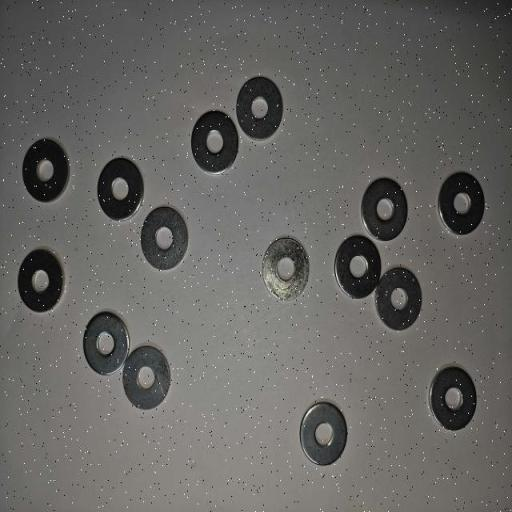washer: (21, 136, 70, 205), (428, 365, 478, 432), (234, 75, 284, 142), (190, 109, 240, 176), (122, 344, 171, 412), (332, 234, 382, 300), (96, 156, 145, 223), (140, 205, 189, 272), (261, 236, 310, 303), (360, 176, 409, 243), (82, 310, 130, 378), (374, 264, 422, 332), (17, 248, 66, 314), (437, 170, 486, 236), (299, 402, 348, 467)
